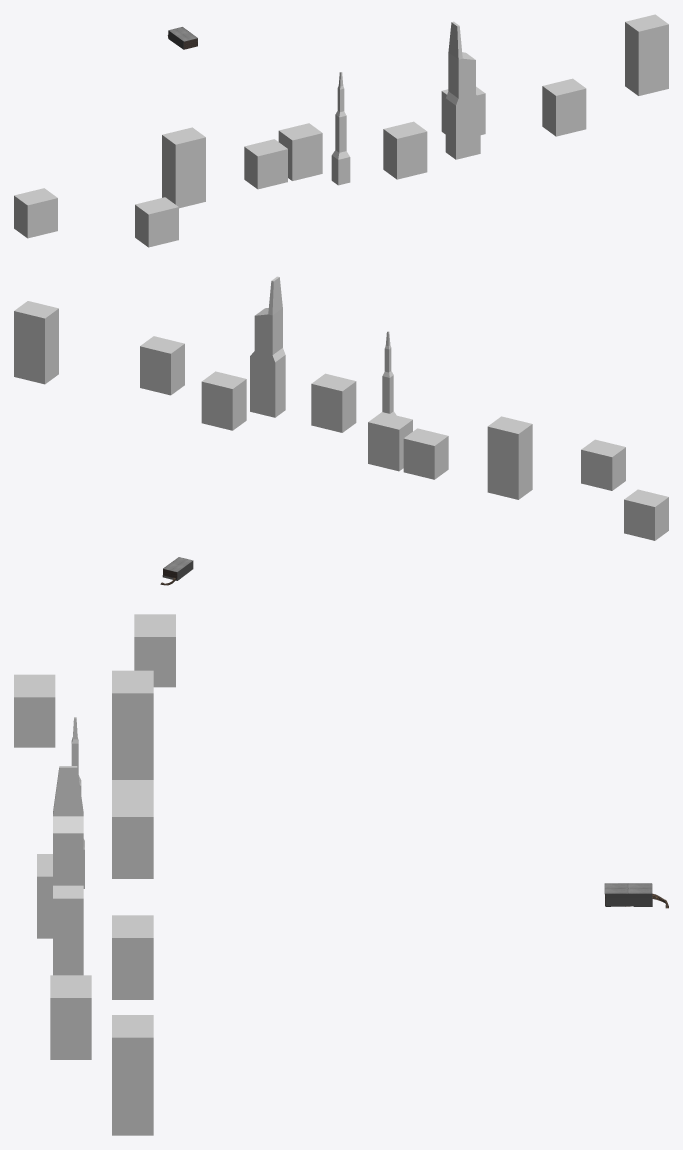
Rendered from sewageTreatmentPlant.fbx.
The picture shows the model from 3 angles, top to bottom: view 1: azimuth 30°, elevation 25°; view 2: azimuth 150°, elevation 25°; view 3: azimuth 270°, elevation 25°; orthographic projection. The views are drawn at different scales.
Visible parts, largest first — view 1: Cube.009, Cube.014, Cube.007, Cube.002, Cube.010, Cube.005, Cube.006, Cube.011, Cube.012, Cube.001, Cube.008, Plane; view 2: Cube.009, Cube.007, Cube.014, Cube.002, Cube.008, Cube.010, Cube.005, Cube.006, Cube.011, Cube.012, Cube.001, Plane; view 3: Cube.009, Cube.014, Cube.007, Cube.005, Cube.008, Cube.010, Cube.011, Cube.012, Cube.002, Plane.
Part boxes in pixels (bbox=[...]): Cube.009: bbox=[445, 21, 480, 159]; Cube.014: bbox=[625, 14, 668, 95]; Cube.007: bbox=[162, 127, 205, 208]; Cube.002: bbox=[383, 121, 427, 179]; Cube.010: bbox=[542, 78, 586, 136]; Cube.005: bbox=[278, 123, 322, 180]; Cube.006: bbox=[244, 139, 287, 189]; Cube.011: bbox=[135, 197, 178, 247]; Cube.012: bbox=[14, 188, 57, 238]; Cube.001: bbox=[331, 72, 350, 185]; Cube.008: bbox=[441, 86, 485, 134]; Plane: bbox=[168, 27, 197, 49]; Cube.009: bbox=[250, 276, 285, 417]; Cube.007: bbox=[487, 416, 532, 499]; Cube.014: bbox=[14, 301, 58, 384]; Cube.002: bbox=[311, 373, 356, 432]; Cube.008: bbox=[201, 371, 246, 430]; Cube.010: bbox=[140, 336, 184, 395]; Cube.005: bbox=[368, 412, 412, 471]; Cube.006: bbox=[403, 428, 448, 479]; Cube.011: bbox=[581, 439, 625, 490]; Cube.012: bbox=[624, 489, 668, 540]; Cube.001: bbox=[382, 331, 396, 415]; Plane: bbox=[162, 557, 193, 580]; Cube.009: bbox=[53, 766, 83, 975]; Cube.014: bbox=[112, 1015, 153, 1135]; Cube.007: bbox=[112, 670, 153, 779]; Cube.005: bbox=[112, 794, 153, 878]; Cube.008: bbox=[112, 915, 153, 999]; Cube.010: bbox=[50, 975, 91, 1059]; Cube.011: bbox=[14, 674, 55, 747]; Cube.012: bbox=[134, 614, 175, 687]; Cube.002: bbox=[37, 854, 52, 938]; Plane: bbox=[604, 883, 652, 906].
Bounding box in the file's own units: 99084 × 20012 × 58165.
